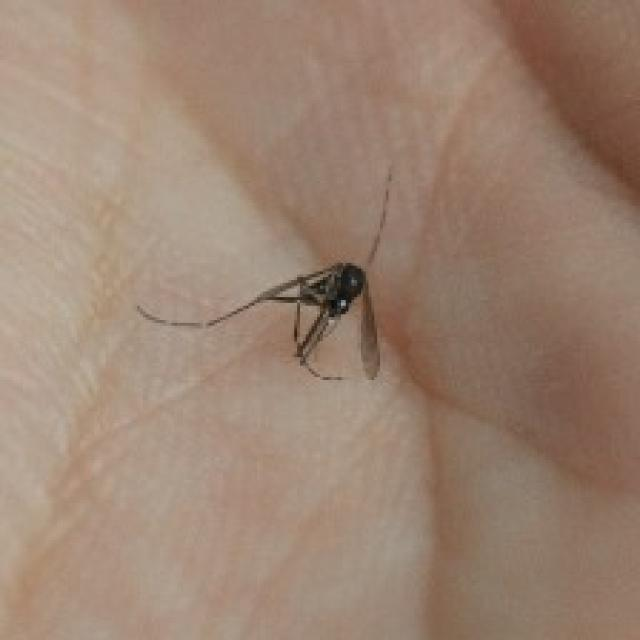aedes: (132, 166, 394, 383)
